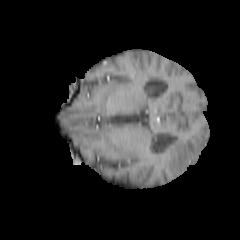glioma: (166, 138, 199, 171)
